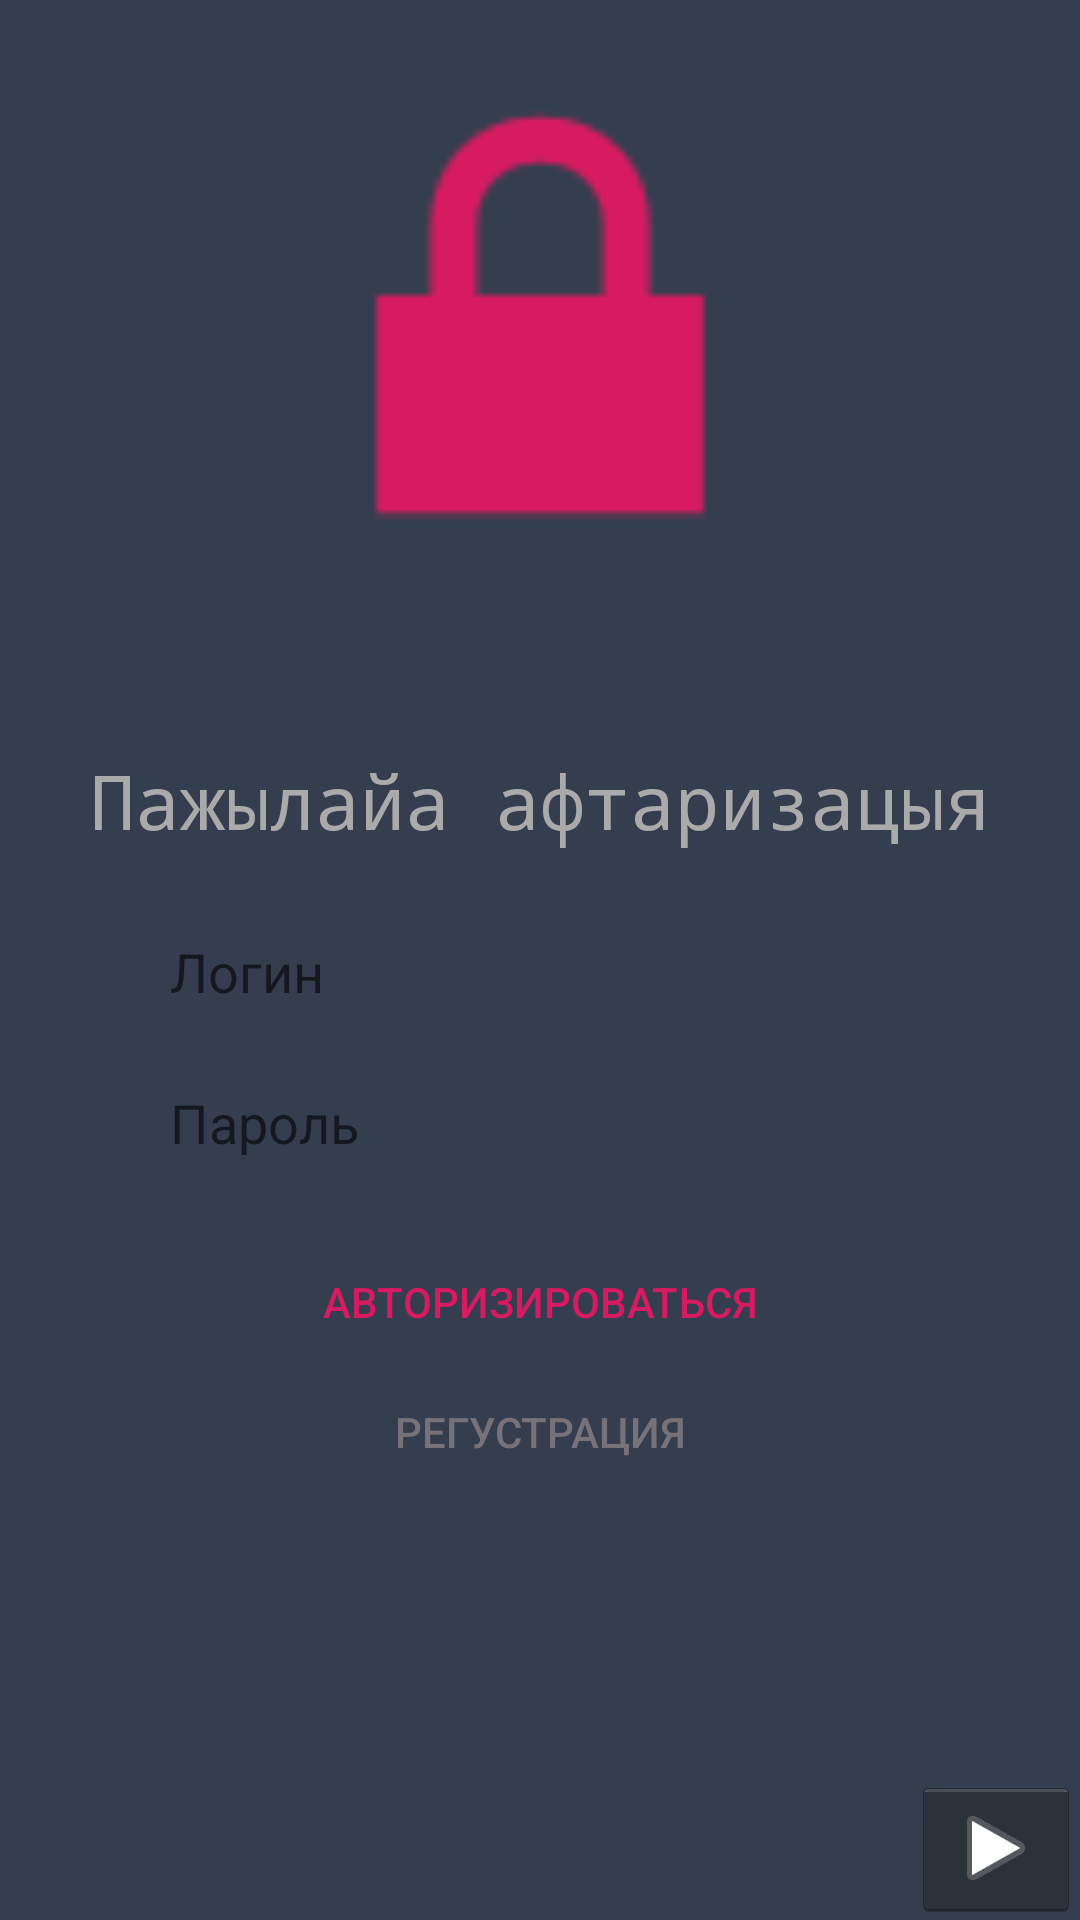

Screen size 1080 × 1920. Icon name, then its box in pixels as (x1, y1, x2, y2):
play: (923, 1788, 1069, 1912)
